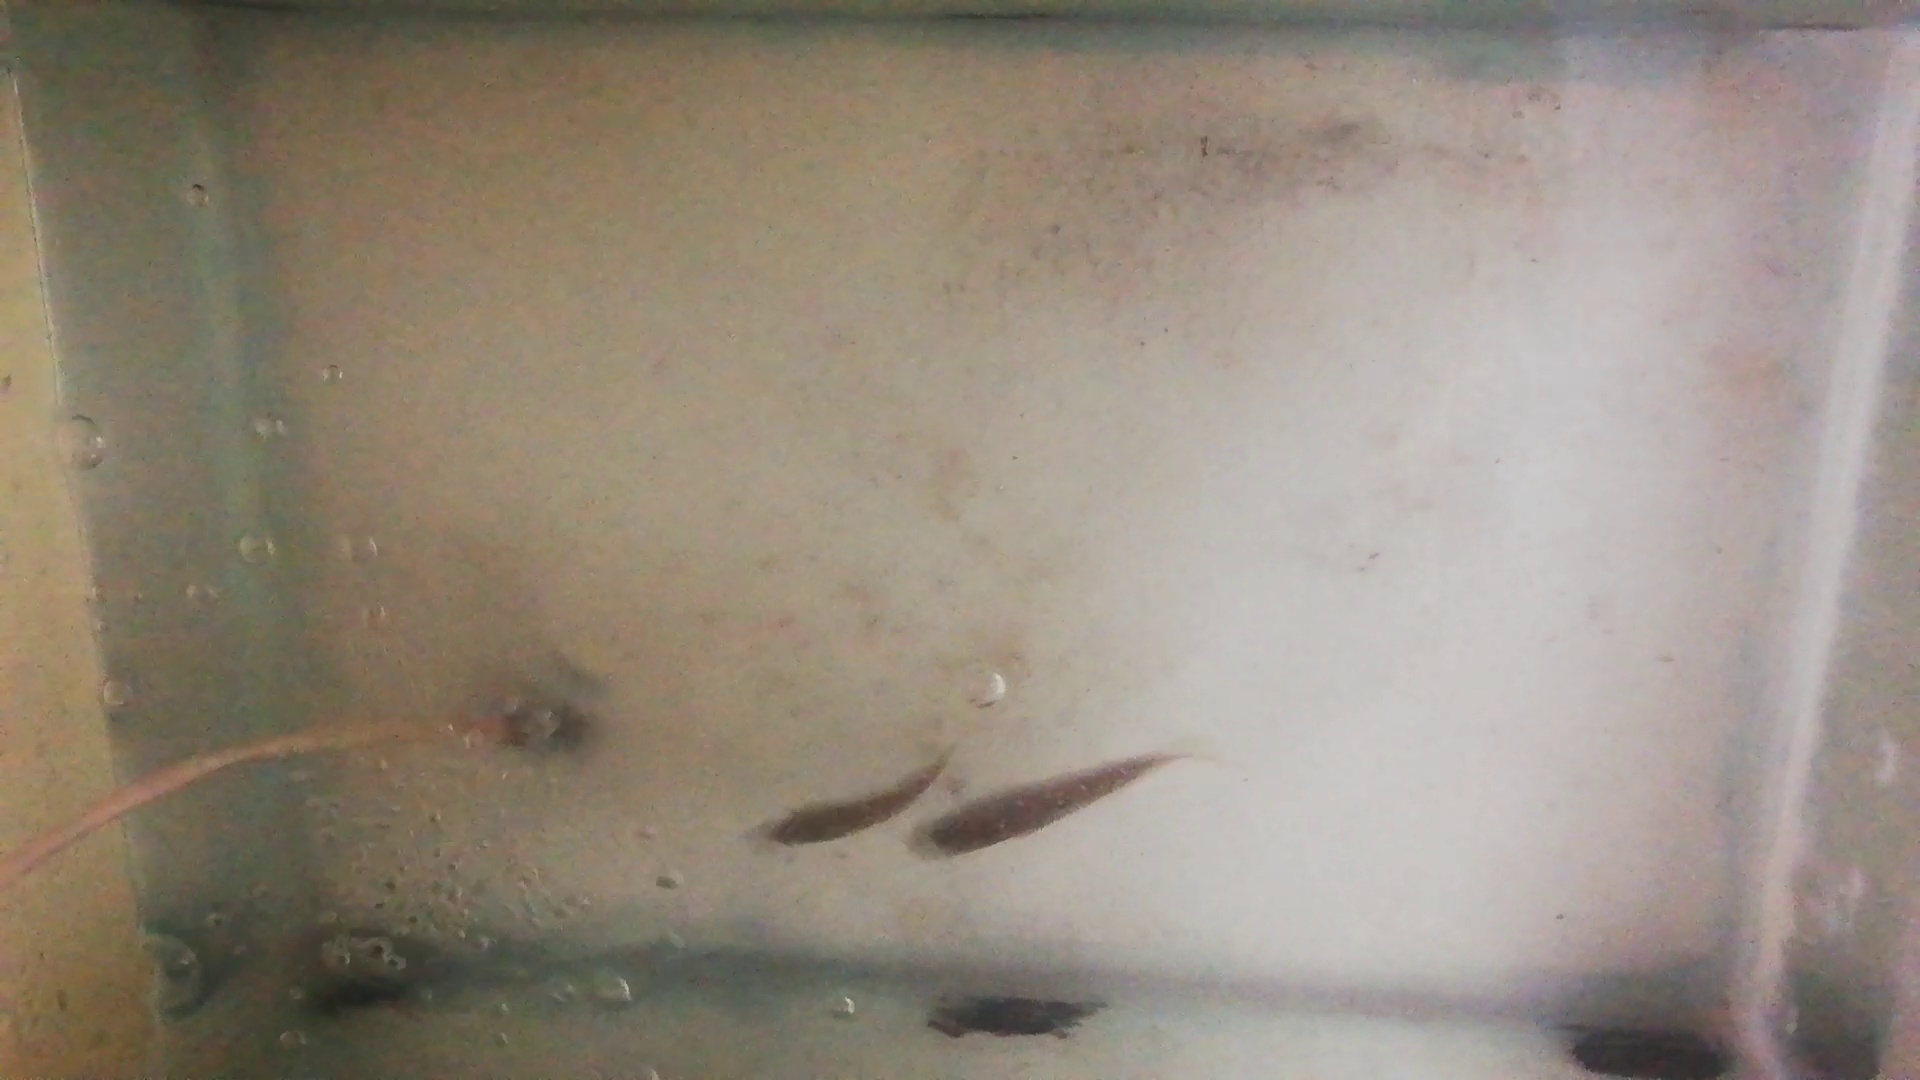fish: (920, 758, 1170, 853), (764, 750, 942, 847)
